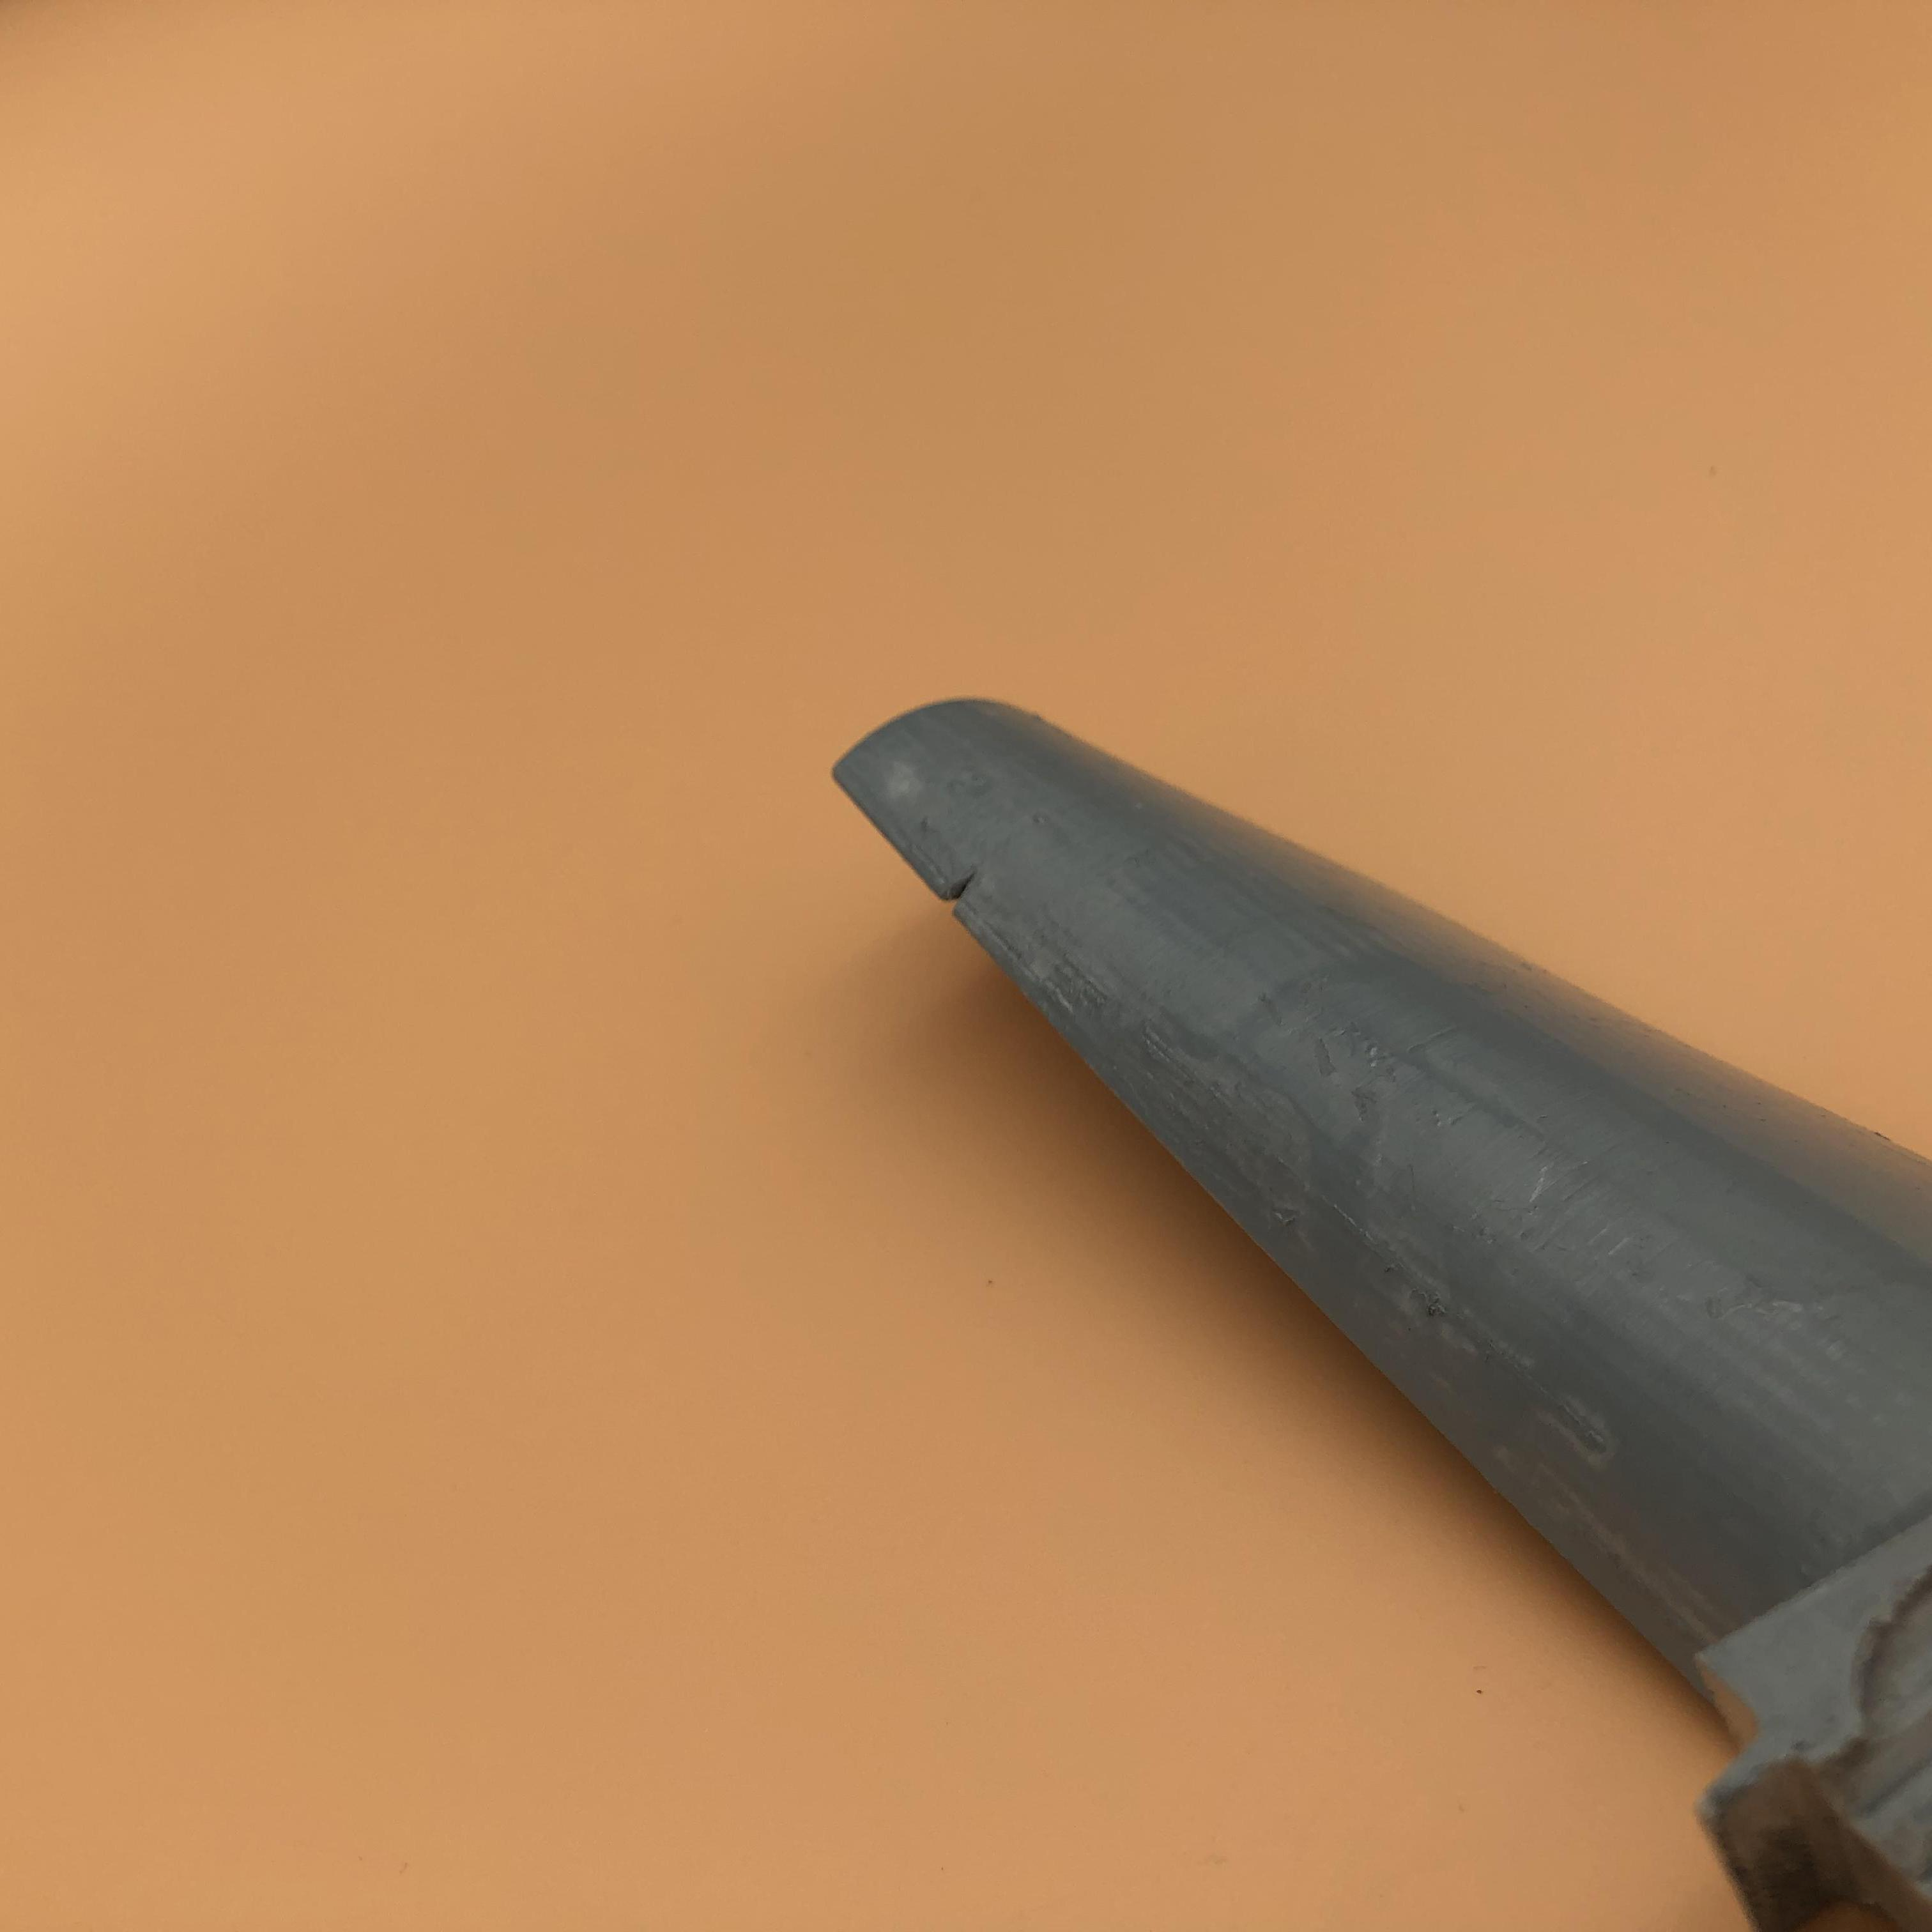groove: (936, 869, 982, 916)
